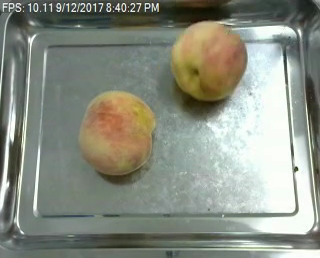Peach: (78, 89, 155, 175), (170, 20, 246, 100)
